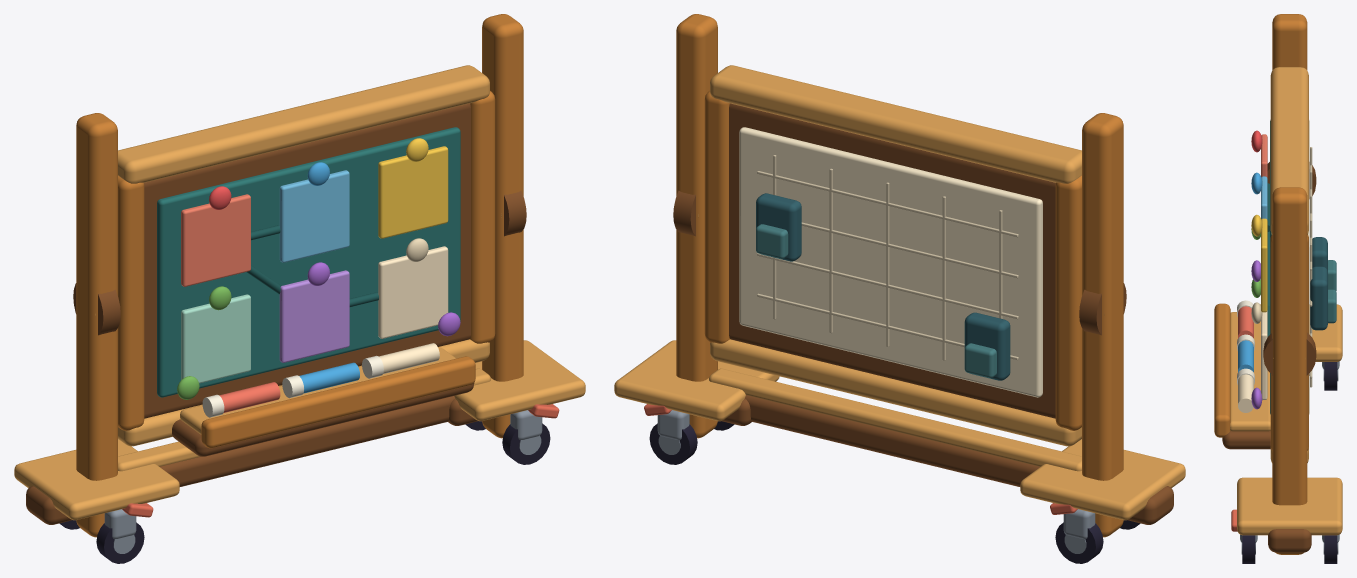
File: collaboration-board.glb
3 views of the same model, side by side, from view 1: azimuth 30°, elevation 25°; view 2: azimuth 150°, elevation 25°; view 3: azimuth 270°, elevation 25° (orthographic). The views are drawn at different scales.
Visible parts, largest first — view 1: double-sided-board-and-rounded-frame-surface-4, double-sided-board-and-rounded-frame-surface-0, two-support-legs-wide-crossbar-and-side-pivots-surface-0, double-sided-board-and-rounded-frame-surface-8, two-support-legs-wide-crossbar-and-side-pivots-surface-10, lower-marker-tray-with-three-markers-surface-4, two-support-legs-wide-crossbar-and-side-pivots-surface-20, double-sided-board-and-rounded-frame-surface-12, two-support-legs-wide-crossbar-and-side-pivots-surface-4, double-sided-board-and-rounded-frame-surface-14, six-blank-idea-cards-and-eight-round-magnets-surface-8, six-blank-idea-cards-and-eight-round-magnets-surface-4 (+19 smaller); view 2: double-sided-board-and-rounded-frame-surface-6, double-sided-board-and-rounded-frame-surface-0, two-support-legs-wide-crossbar-and-side-pivots-surface-0, double-sided-board-and-rounded-frame-surface-8, two-support-legs-wide-crossbar-and-side-pivots-surface-10, double-sided-board-and-rounded-frame-surface-10, two-support-legs-wide-crossbar-and-side-pivots-surface-22, two-support-legs-wide-crossbar-and-side-pivots-surface-20, double-sided-board-and-rounded-frame-surface-12, two-support-legs-wide-crossbar-and-side-pivots-surface-4, double-sided-board-and-rounded-frame-surface-14, two-support-legs-wide-crossbar-and-side-pivots-surface-14 (+15 smaller); view 3: two-support-legs-wide-crossbar-and-side-pivots-surface-10, two-support-legs-wide-crossbar-and-side-pivots-surface-14, double-sided-board-and-rounded-frame-surface-8, lower-marker-tray-with-three-markers-surface-2, lower-marker-tray-with-three-markers-surface-4, two-support-legs-wide-crossbar-and-side-pivots-surface-0, two-support-legs-wide-crossbar-and-side-pivots-surface-4, finished-rear-grid-and-two-storage-clips-surface-13, two-support-legs-wide-crossbar-and-side-pivots-surface-12, lower-marker-tray-with-three-markers-surface-0, double-sided-board-and-rounded-frame-surface-14, two-support-legs-wide-crossbar-and-side-pivots-surface-16 (+23 smaller).
Boxes of the visible parts, <box> form: double-sided-board-and-rounded-frame-surface-4: <box>157,127,460,397</box>; double-sided-board-and-rounded-frame-surface-0: <box>144,103,470,418</box>; two-support-legs-wide-crossbar-and-side-pivots-surface-0: <box>76,113,117,537</box>; double-sided-board-and-rounded-frame-surface-8: <box>118,65,489,183</box>; two-support-legs-wide-crossbar-and-side-pivots-surface-10: <box>482,14,523,438</box>; lower-marker-tray-with-three-markers-surface-4: <box>201,356,475,448</box>; two-support-legs-wide-crossbar-and-side-pivots-surface-20: <box>160,396,454,486</box>; double-sided-board-and-rounded-frame-surface-12: <box>118,175,144,430</box>; two-support-legs-wide-crossbar-and-side-pivots-surface-4: <box>14,439,179,520</box>; double-sided-board-and-rounded-frame-surface-14: <box>470,91,495,343</box>; six-blank-idea-cards-and-eight-round-magnets-surface-8: <box>378,146,448,238</box>; six-blank-idea-cards-and-eight-round-magnets-surface-4: <box>279,170,349,262</box>; double-sided-board-and-rounded-frame-surface-6: <box>739,127,1042,397</box>; double-sided-board-and-rounded-frame-surface-0: <box>729,103,1055,418</box>; two-support-legs-wide-crossbar-and-side-pivots-surface-0: <box>1082,113,1123,537</box>; double-sided-board-and-rounded-frame-surface-8: <box>710,65,1081,183</box>; two-support-legs-wide-crossbar-and-side-pivots-surface-10: <box>676,14,717,438</box>; double-sided-board-and-rounded-frame-surface-10: <box>710,339,1081,446</box>; two-support-legs-wide-crossbar-and-side-pivots-surface-22: <box>709,368,1081,471</box>; two-support-legs-wide-crossbar-and-side-pivots-surface-20: <box>745,395,1039,486</box>; double-sided-board-and-rounded-frame-surface-12: <box>1055,175,1081,430</box>; two-support-legs-wide-crossbar-and-side-pivots-surface-4: <box>1020,439,1185,520</box>; double-sided-board-and-rounded-frame-surface-14: <box>704,91,729,343</box>; two-support-legs-wide-crossbar-and-side-pivots-surface-14: <box>614,340,779,421</box>; two-support-legs-wide-crossbar-and-side-pivots-surface-10: <box>1272,187,1307,554</box>; two-support-legs-wide-crossbar-and-side-pivots-surface-14: <box>1237,477,1342,535</box>; double-sided-board-and-rounded-frame-surface-8: <box>1270,67,1308,234</box>; lower-marker-tray-with-three-markers-surface-2: <box>1230,312,1270,431</box>; lower-marker-tray-with-three-markers-surface-4: <box>1214,303,1230,437</box>; two-support-legs-wide-crossbar-and-side-pivots-surface-0: <box>1272,14,1307,70</box>; two-support-legs-wide-crossbar-and-side-pivots-surface-4: <box>1260,304,1342,361</box>; finished-rear-grid-and-two-storage-clips-surface-13: <box>1310,266,1327,330</box>; two-support-legs-wide-crossbar-and-side-pivots-surface-12: <box>1268,529,1311,552</box>; lower-marker-tray-with-three-markers-surface-0: <box>1222,431,1270,449</box>; double-sided-board-and-rounded-frame-surface-14: <box>1270,234,1308,450</box>; two-support-legs-wide-crossbar-and-side-pivots-surface-16: <box>1263,332,1316,375</box>.
Bounding box in the file's own units: 1.75 × 1.34 × 0.4184.
